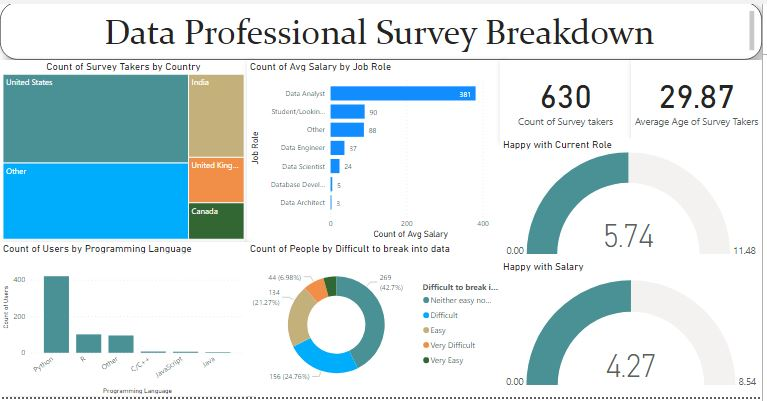

What the dashboard file says about the page in this screenshot:
{"tool":"powerbi","page":{"name":"Page 1","canvas":[1280,720],"ordinal":0},"visuals":[{"type":"textbox","box":[0,0,1266.6,179.7],"z":0},{"type":"textbox","box":[0,57.1,1280,97.4],"z":1000},{"type":"treemap","title":"Count of Survey Takers by Country","fields":{"Group":["Data Professional Survey.Q11 - Which Country do you live in?.1"],"Values":["CountNonNull(Data Professional Survey.Unique ID)"]},"box":[0,154.5,414.9,305.7],"z":2000},{"type":"clusteredBarChart","fields":{"Y":["CountNonNull(Data Professional Survey.Avg Salary)"],"Category":["Data Professional Survey.Q1 - Which Title Best Fits your Current Role?.1"]},"box":[414.9,154.5,425,305.7],"z":3000},{"type":"card","fields":{"Values":["CountNonNull(Data Professional Survey.Unique ID)"]},"box":[839.9,154.5,220.1,131],"z":4000},{"type":"card","fields":{"Values":["Avg(Data Professional Survey.Q10 - Current Age)"]},"box":[1059.9,154.5,220.1,131],"z":5000},{"type":"gauge","fields":{"Y":["Avg(Data Professional Survey.Q6 - How Happy are you in your Current Position with the following? (Work/Life Balance))"]},"box":[839.9,285.6,440.1,204.9],"z":6000},{"type":"columnChart","fields":{"Category":["Data Professional Survey.Q5 - Favorite Programming Language.1"],"Y":["CountNonNull(Data Professional Survey.Unique ID)"]},"box":[0,460.3,414.9,260.4],"z":7000},{"type":"donutChart","fields":{"Category":["Data Professional Survey.Q7 - How difficult was it for you to break into Data?"],"Y":["CountNonNull(Data Professional Survey.Unique ID)"]},"box":[415,461,425,259],"z":7001},{"type":"gauge","fields":{"Y":["Avg(Data Professional Survey.Q6 - How Happy are you in your Current Position with the following? (Salary))"]},"box":[839.9,490.5,440.1,230.1],"z":7002}]}

Visuals, with their boxes on the page's 1280x720 design canvas (x1, y1, x2, y2). These are canvas units, not pixel positions in the 767x401 screenshot, which may show the page scaled, cropped or inside an application window:
textbox: detection(0, 0, 1267, 180)
textbox: detection(0, 57, 1280, 154)
"Count of Survey Takers by Country" treemap: detection(0, 154, 415, 460)
clusteredBarChart - CountNonNull(Data Professional Survey.Avg Salary) x Data Professional Survey.Q1 - Which Title Best Fits your Current Role?.1: detection(415, 154, 840, 460)
card - CountNonNull(Data Professional Survey.Unique ID): detection(840, 154, 1060, 286)
card - Avg(Data Professional Survey.Q10 - Current Age): detection(1060, 154, 1280, 286)
gauge - Avg(Data Professional Survey.Q6 - How Happy are you in your Current Position with the following? (Work/Life Balance)): detection(840, 286, 1280, 490)
columnChart - Data Professional Survey.Q5 - Favorite Programming Language.1 x CountNonNull(Data Professional Survey.Unique ID): detection(0, 460, 415, 721)
donutChart - Data Professional Survey.Q7 - How difficult was it for you to break into Data? x CountNonNull(Data Professional Survey.Unique ID): detection(415, 461, 840, 720)
gauge - Avg(Data Professional Survey.Q6 - How Happy are you in your Current Position with the following? (Salary)): detection(840, 490, 1280, 721)
